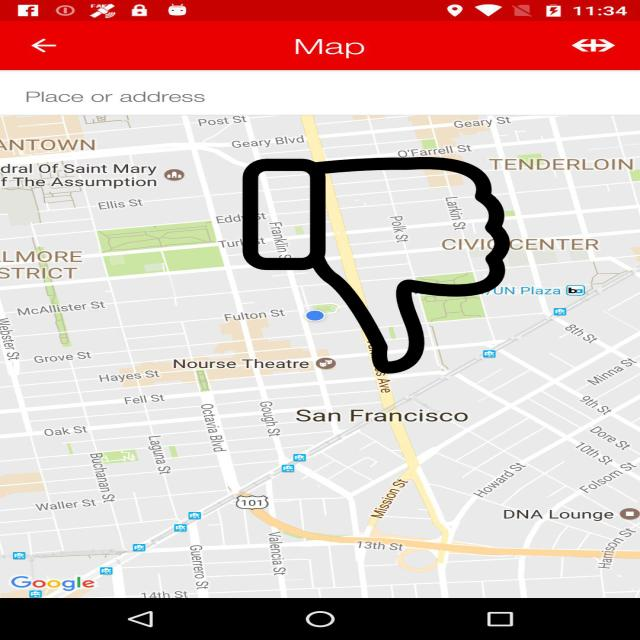obstruction: (239, 157, 514, 374)
